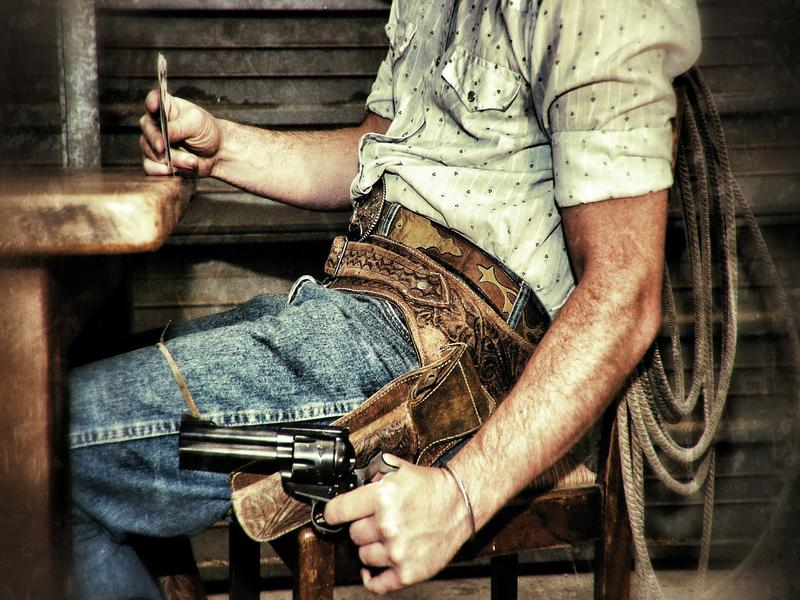Revolver: (161, 412, 383, 546)
